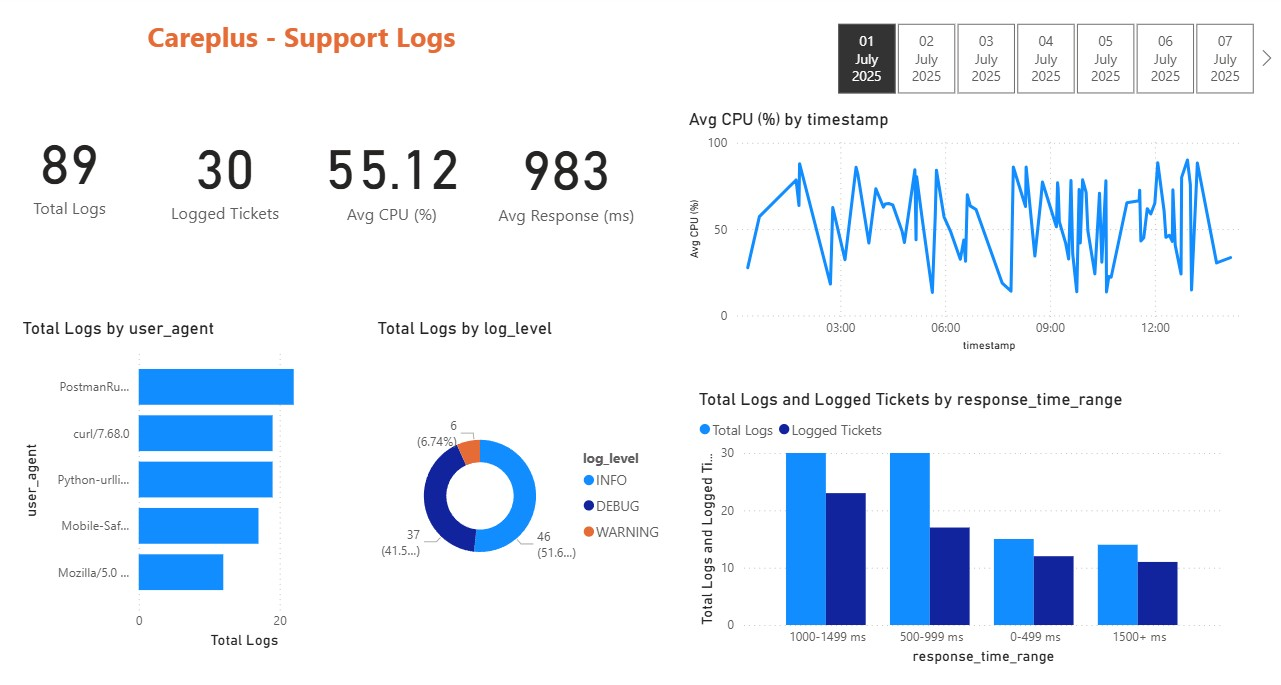

This screenshot's page, from the dashboard's own definition file:
{"tool":"powerbi","page":{"name":"support_logs","canvas":[1280,720],"ordinal":1},"visuals":[{"type":"card","fields":{"Values":["key_measures.Total Logs"]},"box":[0,114.1,146.3,114.1],"z":0},{"type":"card","fields":{"Values":["key_measures.Logged Tickets"]},"box":[154.1,122,142.4,106.3],"z":1000},{"type":"card","fields":{"Values":["key_measures.Avg CPU (%)"]},"box":[314.1,118,148.3,115.1],"z":2000},{"type":"card","fields":{"Values":["key_measures.Avg Response (ms)"]},"box":[485.9,118,147.3,117.1],"z":3000},{"type":"lineChart","fields":{"Category":["support_logs.timestamp"],"Y":["key_measures.Avg CPU (%)"]},"box":[674.1,112.2,555.1,242],"z":4000},{"type":"slicer","fields":{"Values":["dim_date.date"]},"box":[799,22.1,457.1,82],"z":5000},{"type":"donutChart","fields":{"Category":["support_logs.log_level"],"Y":["key_measures.Total Logs"]},"box":[369.8,317.1,294.6,329.8],"z":6000},{"type":"barChart","fields":{"Category":["support_logs.user_agent"],"Y":["key_measures.Total Logs"]},"box":[22.4,317.1,337.6,328.8],"z":7000},{"type":"clusteredColumnChart","fields":{"Category":["support_logs.response_time_range"],"Y":["key_measures.Total Logs","key_measures.Logged Tickets"]},"box":[683.8,386.1,522.5,274.6],"z":8000},{"type":"textbox","box":[144.7,18.4,381.2,63.7],"z":9000}]}

Visuals, with their boxes on the page's 1280x720 design canvas (x1, y1, x2, y2). These are canvas units, not pixel positions in the 1281x685 screenshot, which may show the page scaled, cropped or inside an application window:
card - key_measures.Total Logs: <region>0, 114, 146, 228</region>
card - key_measures.Logged Tickets: <region>154, 122, 296, 228</region>
card - key_measures.Avg CPU (%): <region>314, 118, 462, 233</region>
card - key_measures.Avg Response (ms): <region>486, 118, 633, 235</region>
lineChart - support_logs.timestamp x key_measures.Avg CPU (%): <region>674, 112, 1229, 354</region>
slicer - dim_date.date: <region>799, 22, 1256, 104</region>
donutChart - support_logs.log_level x key_measures.Total Logs: <region>370, 317, 664, 647</region>
barChart - support_logs.user_agent x key_measures.Total Logs: <region>22, 317, 360, 646</region>
clusteredColumnChart - support_logs.response_time_range x key_measures.Total Logs: <region>684, 386, 1206, 661</region>
textbox: <region>145, 18, 526, 82</region>
